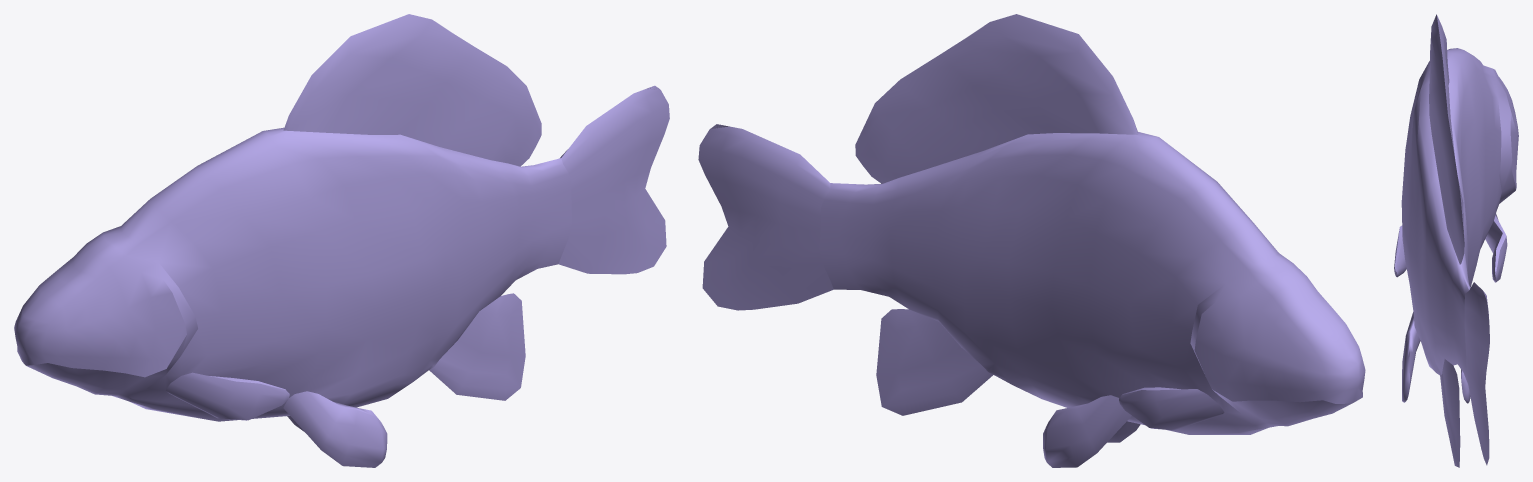
File: fish 1 anim.fbx
3 views of the same model, side by side, from view 1: azimuth 30°, elevation 25°; view 2: azimuth 150°, elevation 25°; view 3: azimuth 270°, elevation 25° (orthographic). The views are drawn at different scales.
Parts seen in each view (by area): view 1: fish 1; view 2: fish 1; view 3: fish 1.
Boxes of the visible parts, bbox=[...] form: fish 1: bbox=[14, 14, 669, 467]; fish 1: bbox=[698, 14, 1365, 467]; fish 1: bbox=[1394, 14, 1518, 467].
Bounding box in the file's own units: 0.0727 × 0.2514 × 0.4039.
